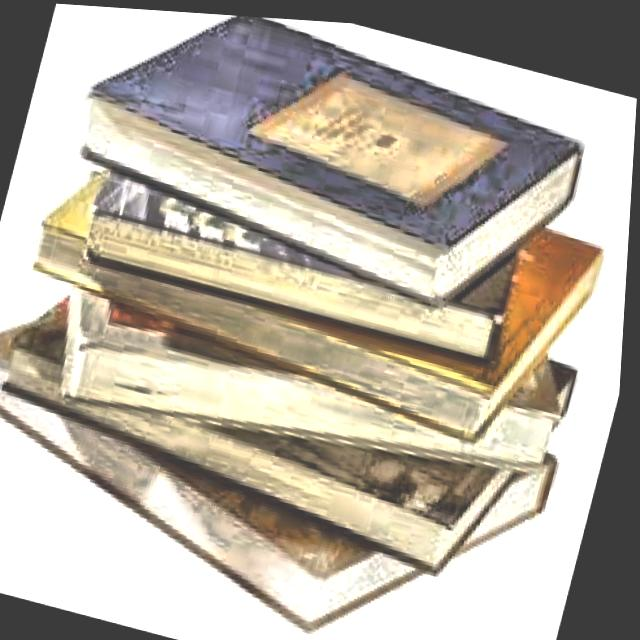Paper: (0, 214, 599, 589), (13, 93, 617, 455), (0, 299, 586, 640), (55, 4, 598, 325), (37, 225, 576, 531), (80, 117, 529, 360)
